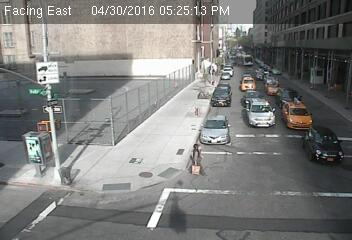neg: (31, 56, 63, 100), (61, 127, 90, 166), (76, 176, 102, 210), (26, 128, 49, 159), (319, 141, 342, 171), (157, 120, 180, 149), (228, 173, 250, 203), (307, 65, 328, 92), (298, 105, 318, 132), (157, 33, 177, 58), (271, 69, 290, 95), (85, 50, 104, 75), (133, 50, 151, 74), (143, 179, 160, 203), (212, 85, 229, 108), (147, 75, 164, 97), (102, 101, 118, 123), (282, 159, 298, 180), (189, 66, 204, 86), (242, 75, 257, 95), (260, 138, 275, 158), (238, 36, 253, 56), (283, 199, 296, 217)
pos: (187, 142, 212, 176)
